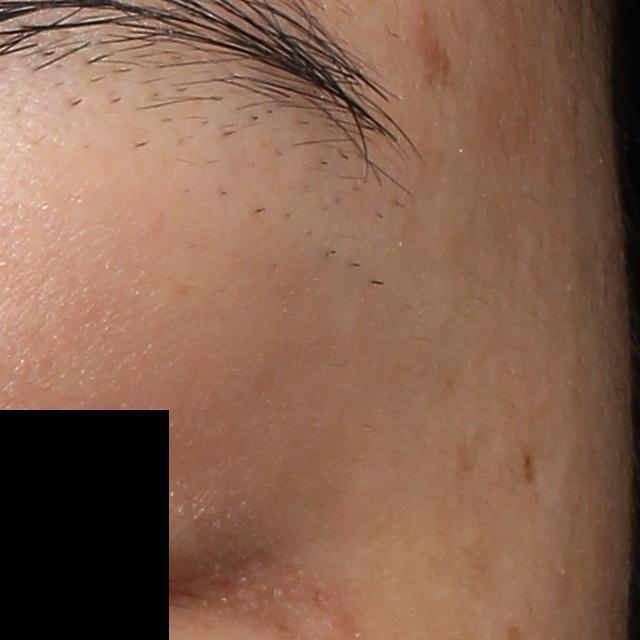nevus: (523, 449, 535, 482)
